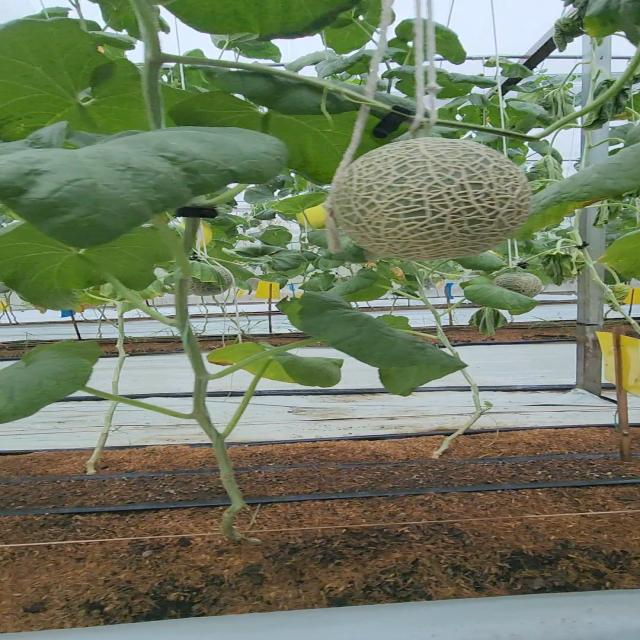Front-melon: (330, 137, 530, 261)
